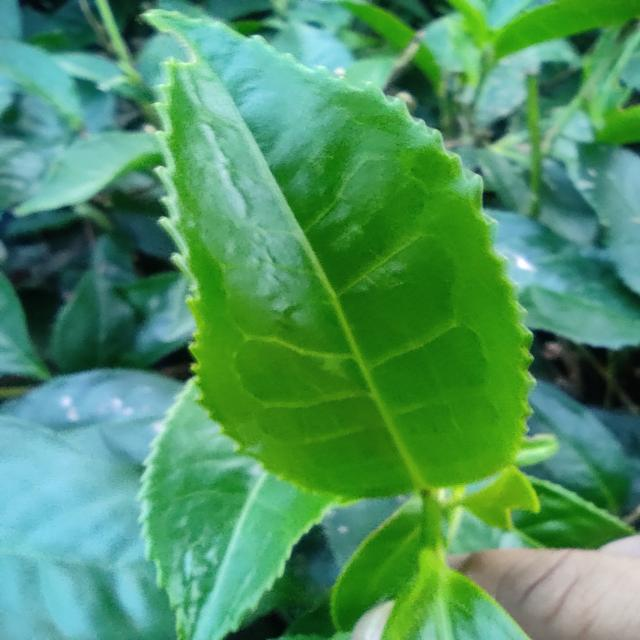Category C(4-7 days): (81, 0, 555, 507)
